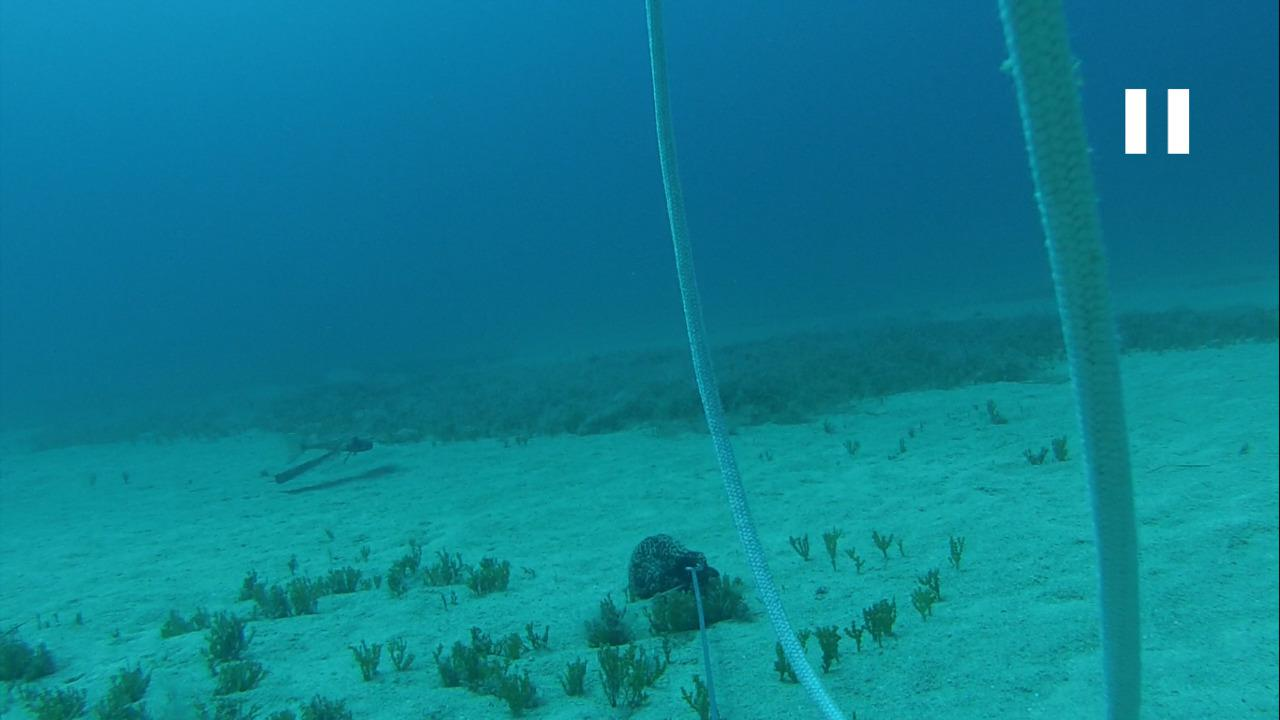dactylopterus: (262, 428, 377, 482)
